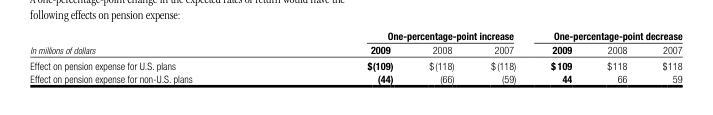table: (29, 28, 681, 83)
table column: (29, 28, 279, 83), (279, 28, 410, 83), (410, 28, 471, 83), (471, 28, 532, 83), (532, 28, 588, 83), (588, 28, 643, 83), (643, 28, 681, 83)
table column header: (29, 28, 681, 56)
table row: (29, 41, 681, 56), (29, 56, 681, 71), (29, 28, 681, 41), (29, 71, 681, 83)
table spanning cell: (29, 28, 279, 56), (279, 28, 532, 41), (532, 28, 681, 41)
